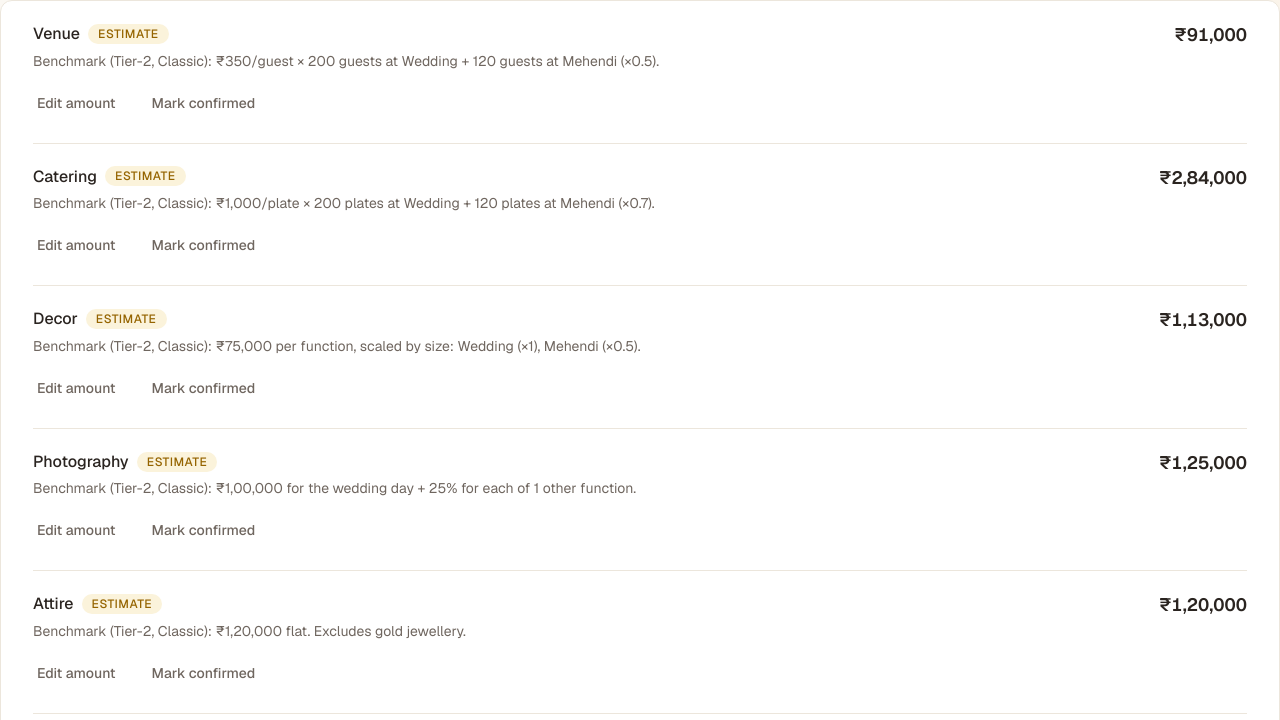
Test: BudgetTab › leaves the amount alone on Cancel
Step 1. Click the button with aria-label "Edit amount for Venue" → (76, 103), box [21, 83, 132, 123]
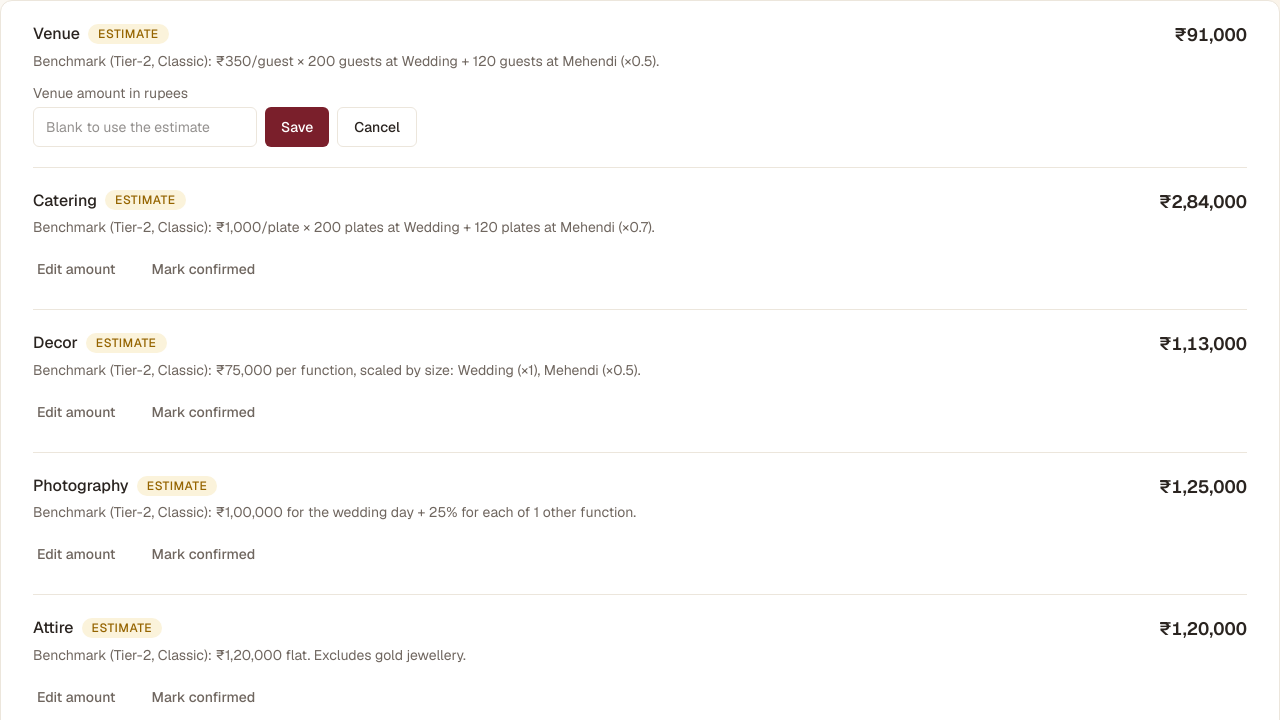
Step 2. Type "999999" into the number field labelled "Venue amount in rupees" → (145, 127), box [33, 107, 257, 147]
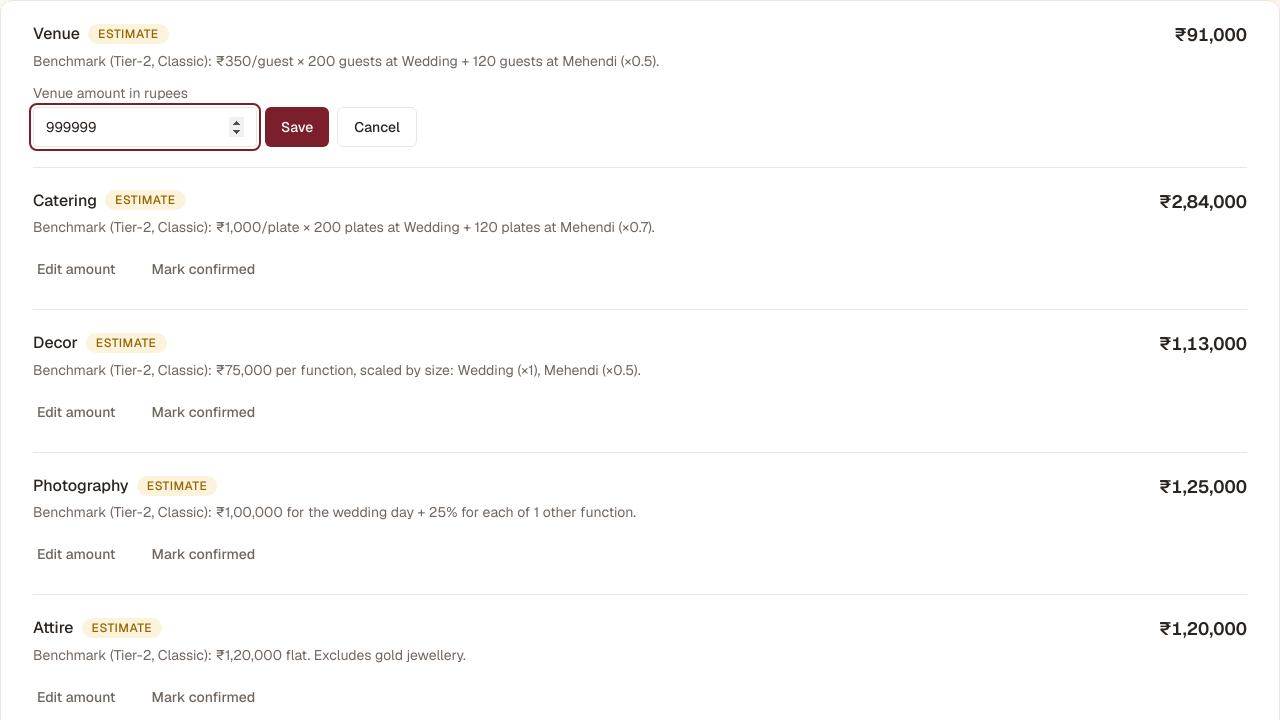
Step 3. Click the button "Cancel" → (377, 127), box [337, 107, 417, 147]
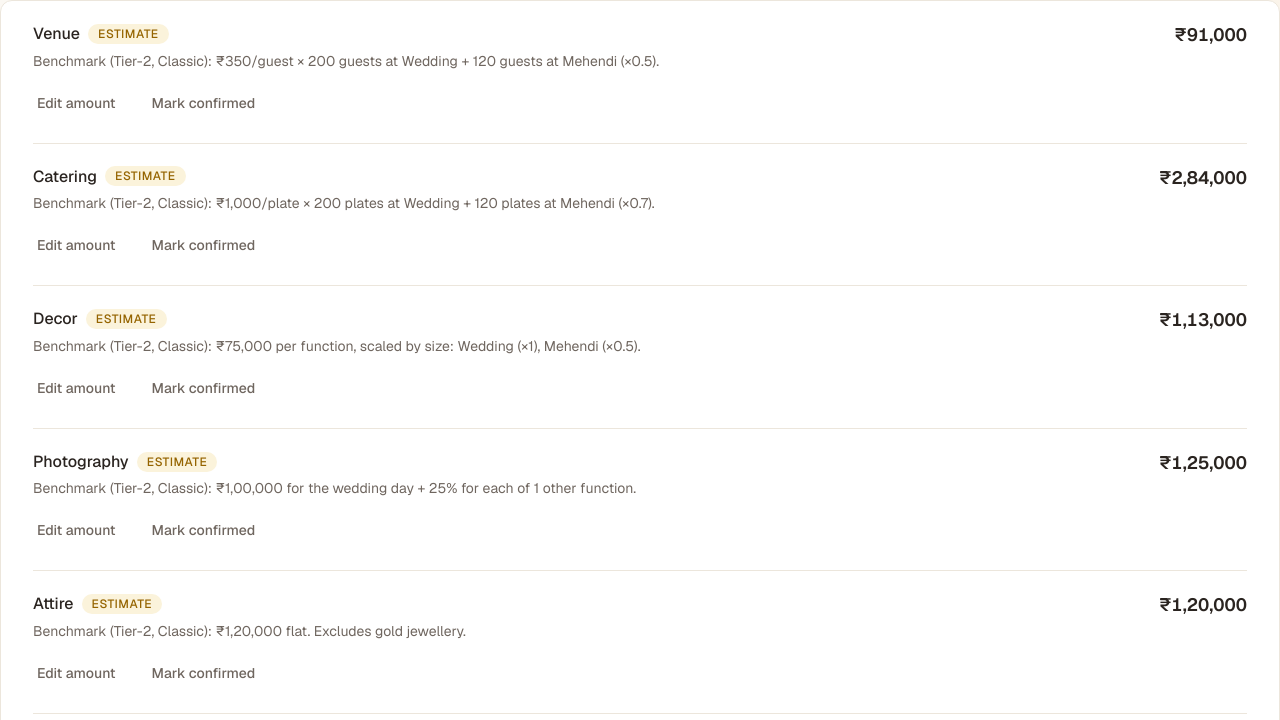
Expected: the text "₹91,000" is shown, [1174, 21, 1247, 49]
Now the button "Save" is gone
